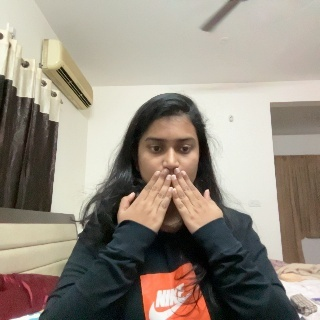Thank You: (116, 167, 234, 253)
